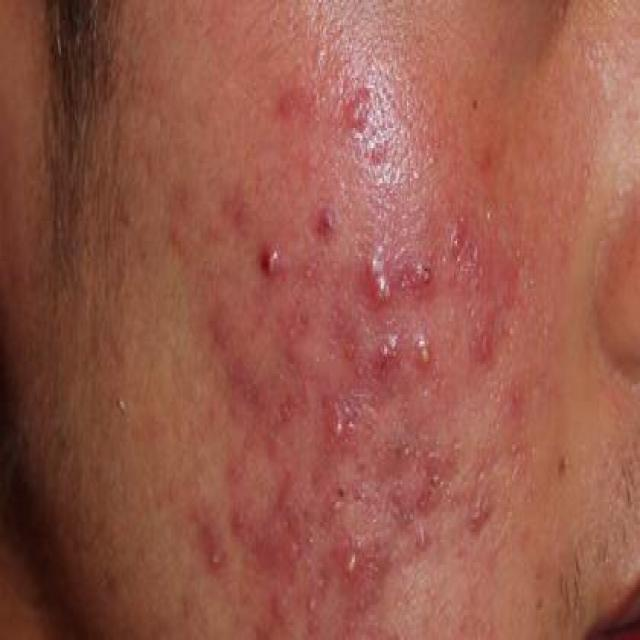9: (337, 532, 378, 600), (317, 404, 360, 459), (252, 234, 286, 291), (298, 572, 324, 622), (204, 537, 226, 585)
papules: (328, 75, 388, 148), (367, 321, 404, 422), (410, 304, 448, 386), (361, 234, 398, 306)
